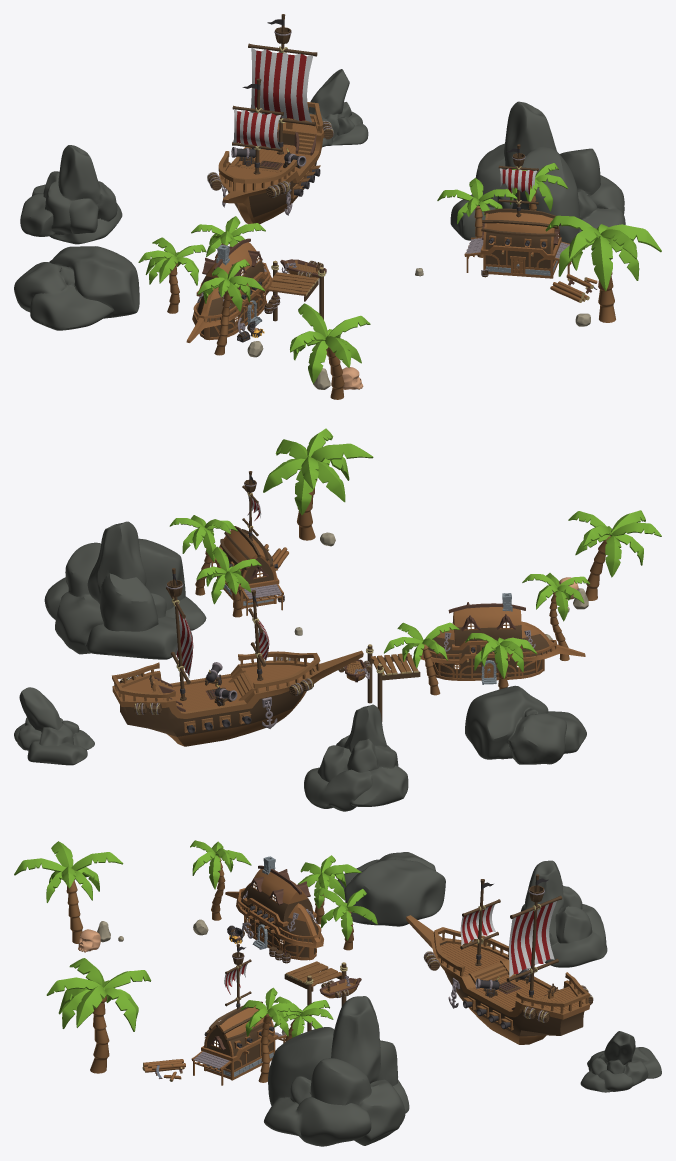
Rendered from sceneMenu.glb.
3 renders of one model, top to bottom at view 1: azimuth 30°, elevation 25°; view 2: azimuth 150°, elevation 25°; view 3: azimuth 270°, elevation 25°, orthographic. The views are drawn at different scales.
Visible parts, largest first — view 1: Ship_Large, Environment_Cliff2, Environment_Cliff1, Environment_House3, Environment_Cliff3, Environment_House1, Environment_PalmTree_3.001, Environment_PalmTree_2.002, Environment_Cliff4, Environment_PalmTree_1, Environment_PalmTree_3, Environment_PalmTree_2.001 (+5 smaller); view 2: Ship_Large, Environment_Cliff2, Environment_Cliff1, Environment_Cliff3, Environment_House1, Environment_PalmTree_3.001, Environment_Cliff4, Environment_House3, Environment_PalmTree_2.002, Environment_PalmTree_1, Environment_PalmTree_2, Environment_PalmTree_2.001 (+3 smaller); view 3: Environment_Cliff2, Ship_Large, Environment_House1, Environment_Cliff1, Environment_House3, Environment_Cliff3, Environment_PalmTree_3.001, Environment_Cliff4, Environment_PalmTree_2.002, Environment_PalmTree_1.001, Environment_PalmTree_1, Environment_PalmTree_3 (+5 smaller).
Part boxes in pixels (x1,y1,x2,y2): Ship_Large: (207, 14, 334, 223); Environment_Cliff2: (450, 101, 625, 243); Environment_Cliff1: (14, 246, 139, 330); Environment_House3: (464, 144, 571, 279); Environment_Cliff3: (20, 145, 122, 244); Environment_House1: (186, 238, 272, 342); Environment_PalmTree_3.001: (545, 215, 661, 322); Environment_PalmTree_2.002: (290, 303, 370, 399); Environment_Cliff4: (308, 69, 368, 147); Environment_PalmTree_1: (197, 259, 264, 355); Environment_PalmTree_3: (138, 237, 206, 313); Environment_PalmTree_2.001: (437, 178, 517, 257); Ship_Large: (112, 568, 363, 746); Environment_Cliff2: (44, 521, 206, 659); Environment_Cliff1: (465, 685, 586, 764); Environment_Cliff3: (304, 704, 408, 811); Environment_House1: (420, 593, 585, 684); Environment_PalmTree_3.001: (263, 428, 373, 540); Environment_Cliff4: (14, 687, 94, 765); Environment_House3: (211, 471, 283, 615); Environment_PalmTree_2.002: (568, 510, 661, 600); Environment_PalmTree_1: (522, 573, 590, 660); Environment_PalmTree_2: (384, 622, 459, 695); Environment_PalmTree_2.001: (196, 546, 261, 617); Environment_Cliff2: (264, 996, 409, 1146); Ship_Large: (406, 874, 593, 1044); Environment_House1: (225, 856, 323, 960); Environment_Cliff1: (337, 852, 445, 926); Environment_House3: (191, 944, 286, 1085); Environment_Cliff3: (520, 860, 607, 967); Environment_PalmTree_3.001: (46, 958, 151, 1073); Environment_Cliff4: (580, 1031, 661, 1092); Environment_PalmTree_2.002: (14, 841, 123, 943); Environment_PalmTree_1.001: (240, 987, 302, 1082); Environment_PalmTree_1: (190, 840, 251, 920); Environment_PalmTree_3: (298, 855, 361, 924).
Size of the model in its own units: 30.28 by 10.51 by 31.64.
28 materials, 26 textured.
